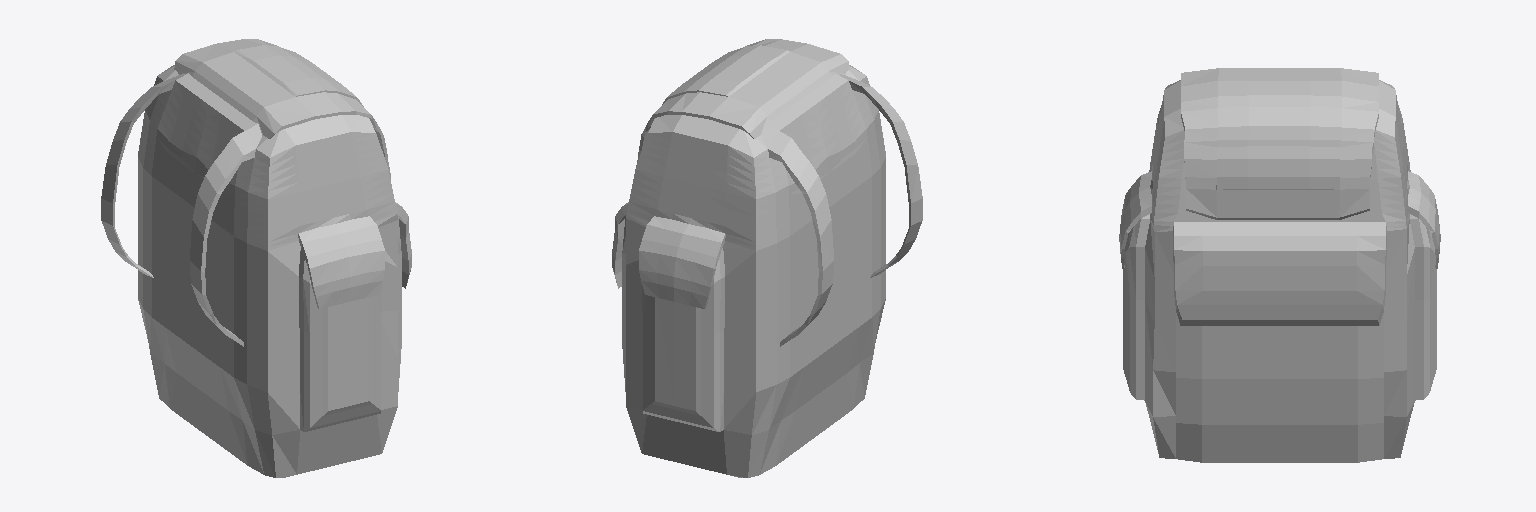
The model's file is Backpack.obj.
The picture shows the model from 3 angles: view 1: azimuth 30°, elevation 25°; view 2: azimuth 150°, elevation 25°; view 3: azimuth 270°, elevation 25°; orthographic projection.
Visible parts, largest first — view 1: Cube_Cube.002; view 2: Cube_Cube.002; view 3: Cube_Cube.002.
Part boxes in pixels (bbox=[...]): Cube_Cube.002: bbox=[101, 39, 411, 477]; Cube_Cube.002: bbox=[612, 39, 922, 477]; Cube_Cube.002: bbox=[1119, 68, 1440, 462].
Bounding box in the file's own units: 1.87 × 3.08 × 2.48.